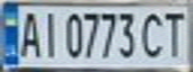0: (60, 8, 84, 60)
3: (115, 9, 142, 60)
7: (78, 8, 100, 60), (100, 9, 118, 60)
A: (15, 7, 42, 60)
C: (139, 8, 169, 60)
I: (36, 8, 60, 59)
T: (160, 7, 190, 58)
